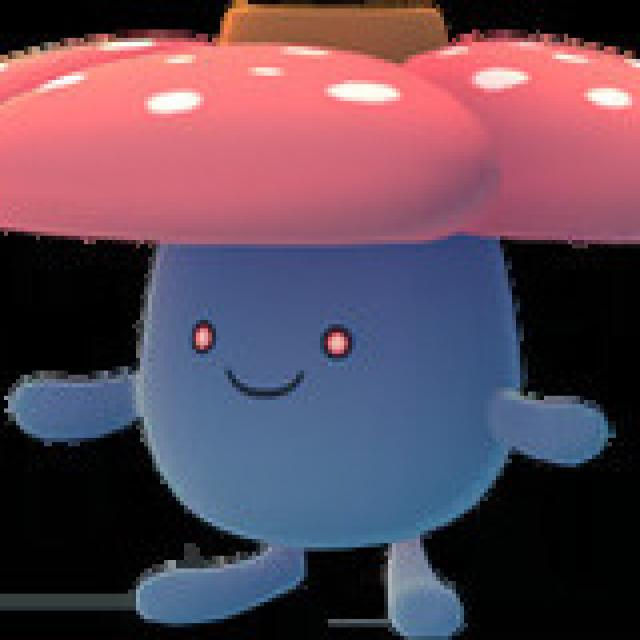Vileplume: (97, 0, 640, 639)
